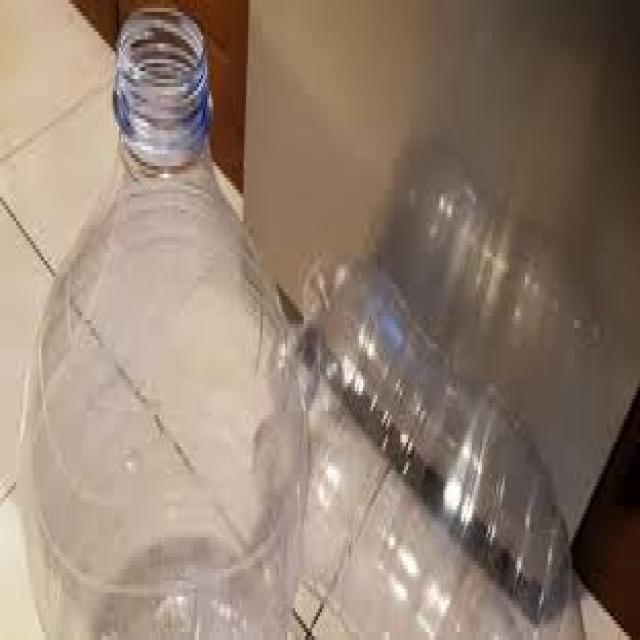Galon: (16, 12, 584, 640)
